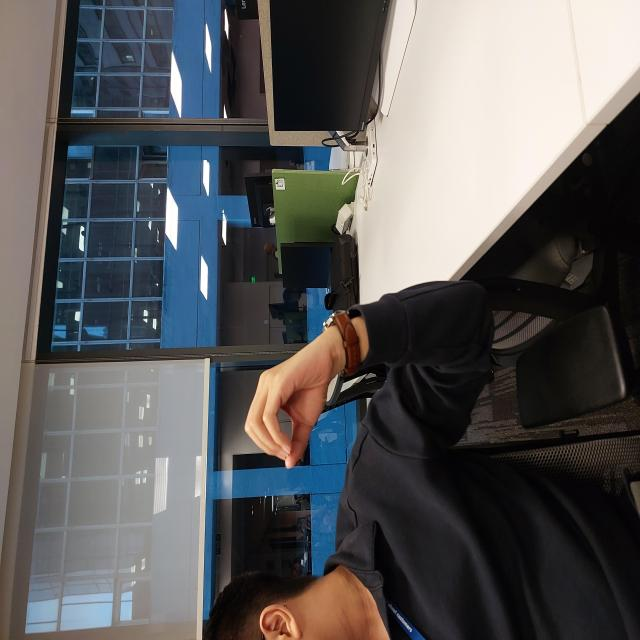O: (171, 244, 297, 333)
